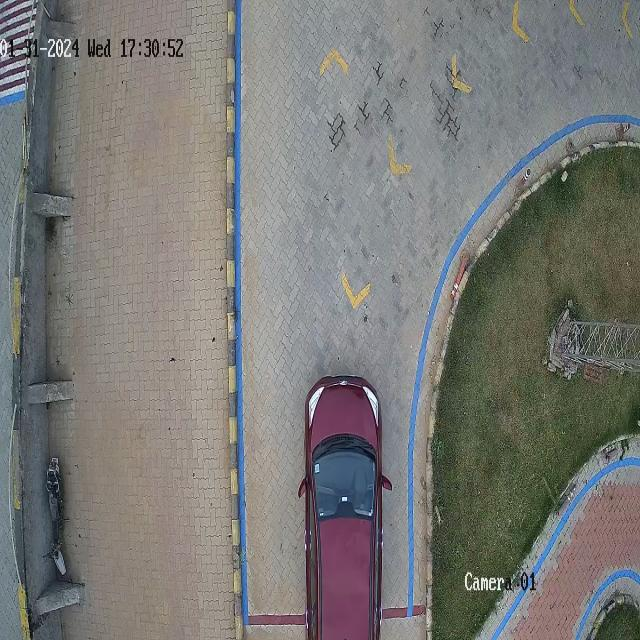car: (299, 376, 391, 640)
